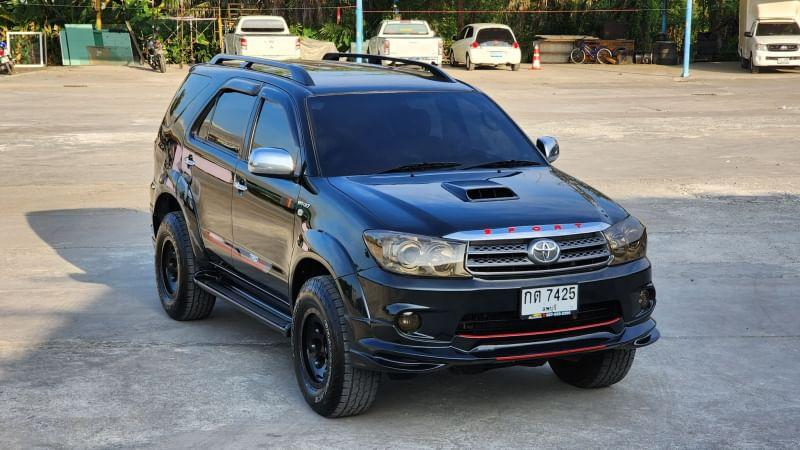license-plate: (517, 281, 582, 323)
